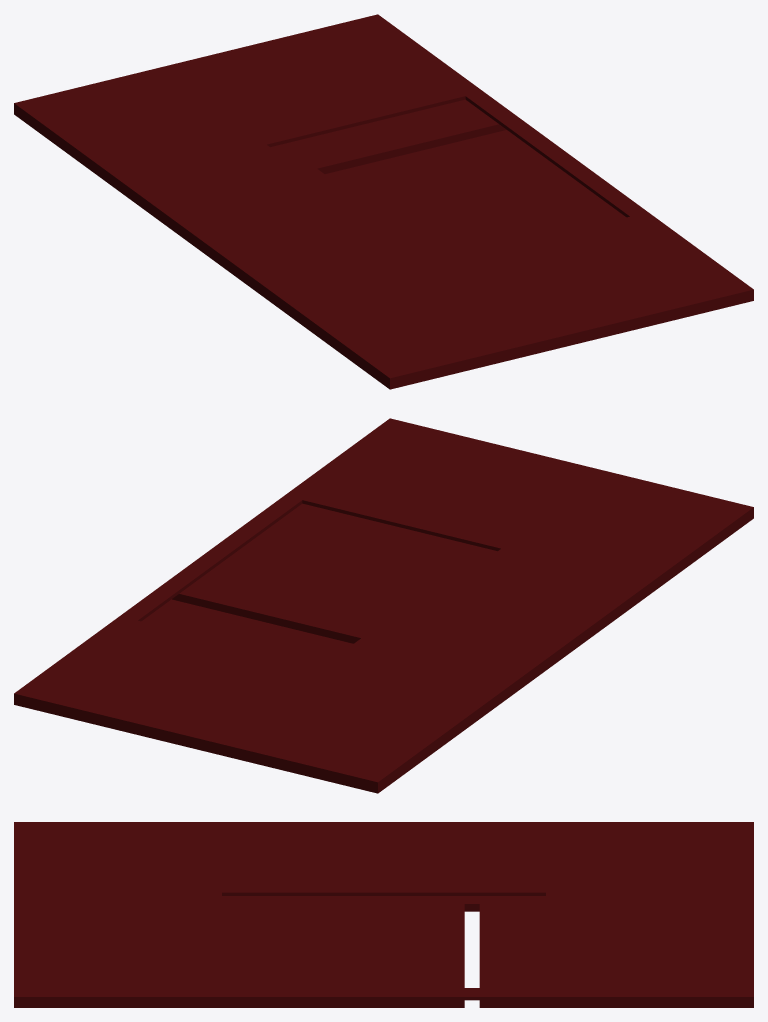
3 renders of one model, top to bottom at view 1: azimuth 30°, elevation 25°; view 2: azimuth 150°, elevation 25°; view 3: azimuth 270°, elevation 25°, orthographic.
Parts seen in each view (by area): view 1: Plastic for Gps; view 2: Plastic for Gps; view 3: Plastic for Gps.
Part boxes in pixels (<box>): Plastic for Gps: <box>14,14,753,389</box>; Plastic for Gps: <box>14,418,753,793</box>; Plastic for Gps: <box>14,822,753,1007</box>.
Size of the model in its own units: 5.49 by 0.1628 by 9.82.
